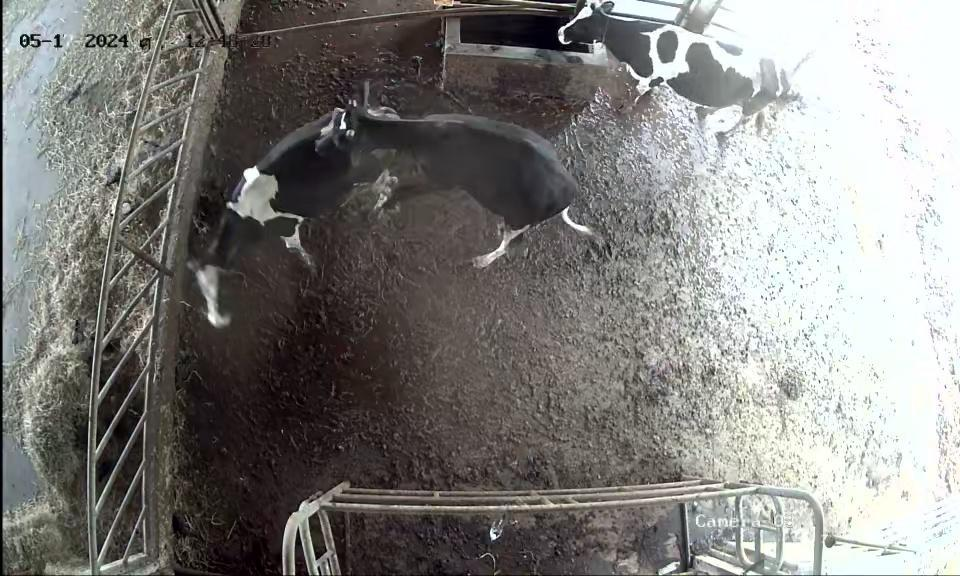drink: (532, 0, 626, 92)
ride: (316, 87, 595, 282)
stand: (186, 107, 388, 338)
